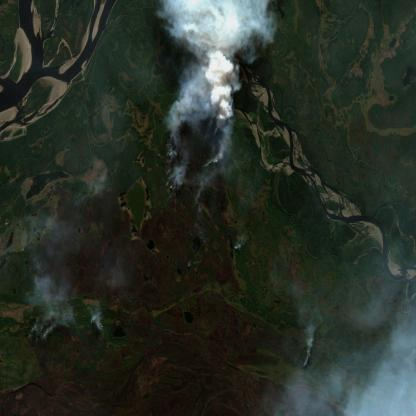fire: (149, 30, 247, 204), (18, 299, 117, 350), (296, 334, 324, 376)
